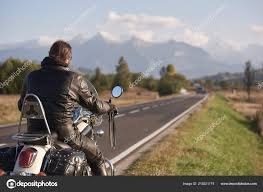motor: (15, 98, 115, 178)
